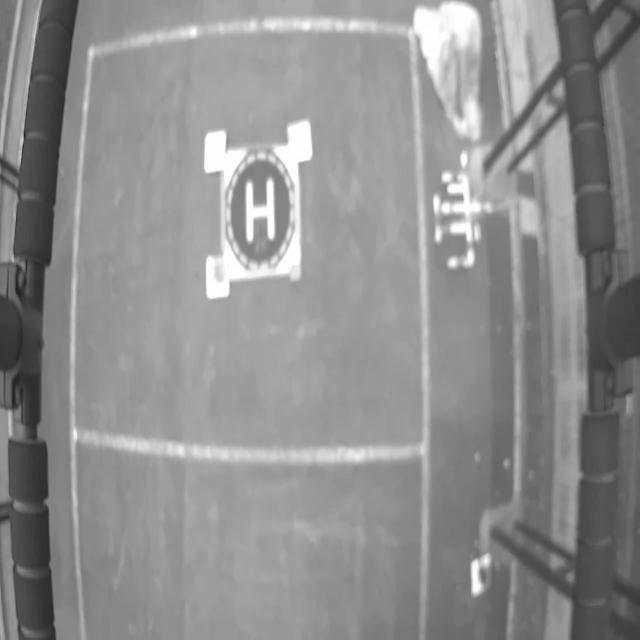Helipad: (246, 180, 275, 243)
